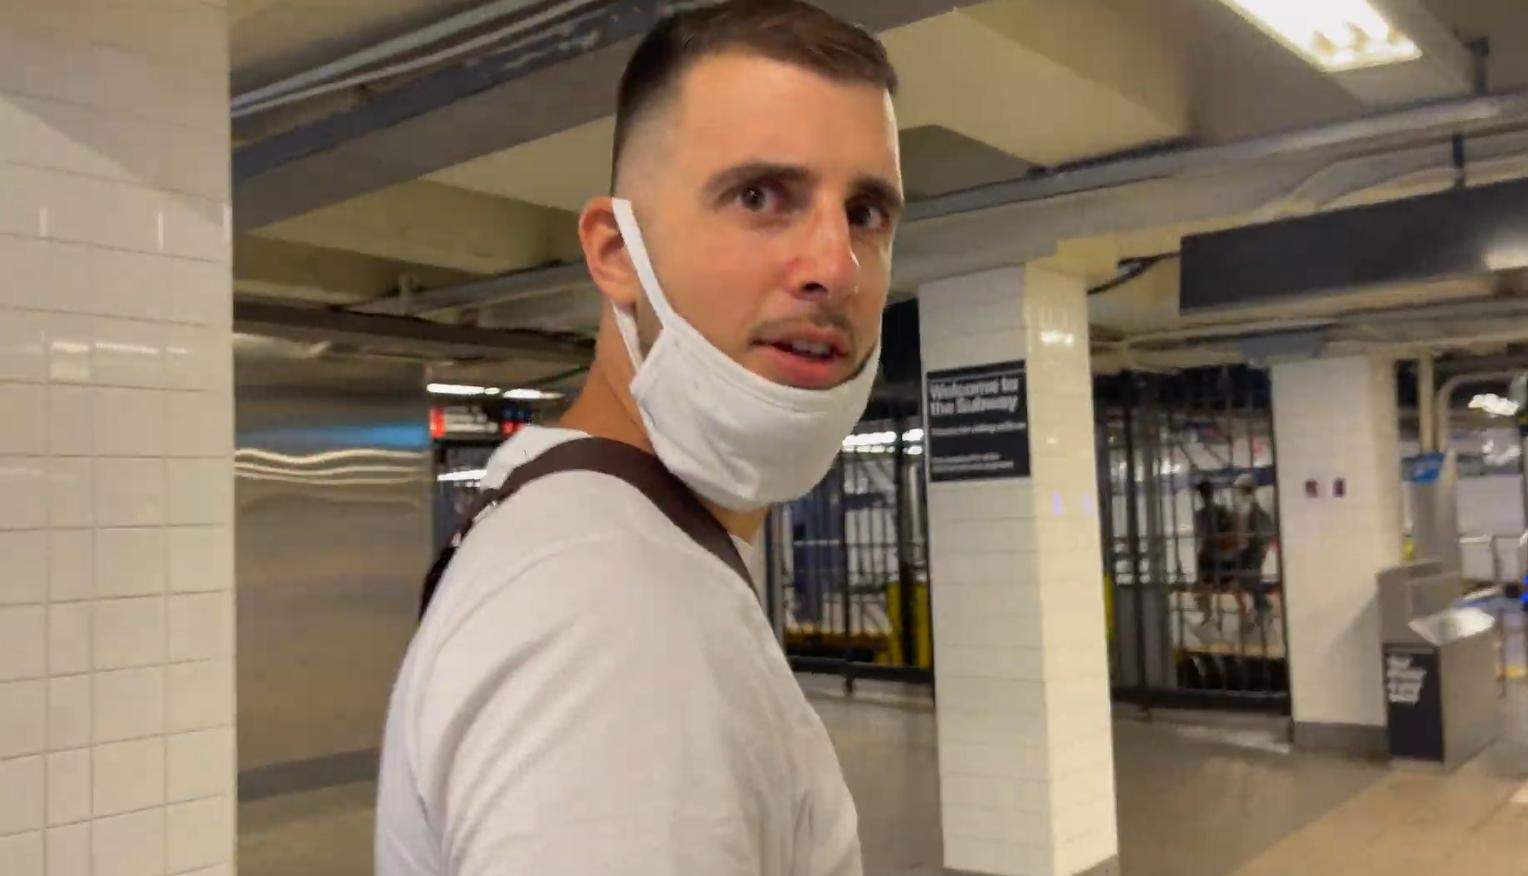with_incorrect_mask: (670, 151, 882, 403)
